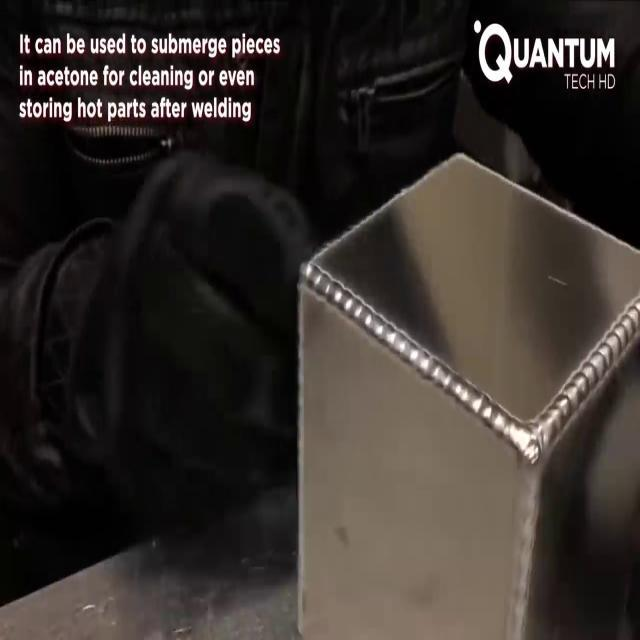Good Welding: (286, 144, 640, 640)
